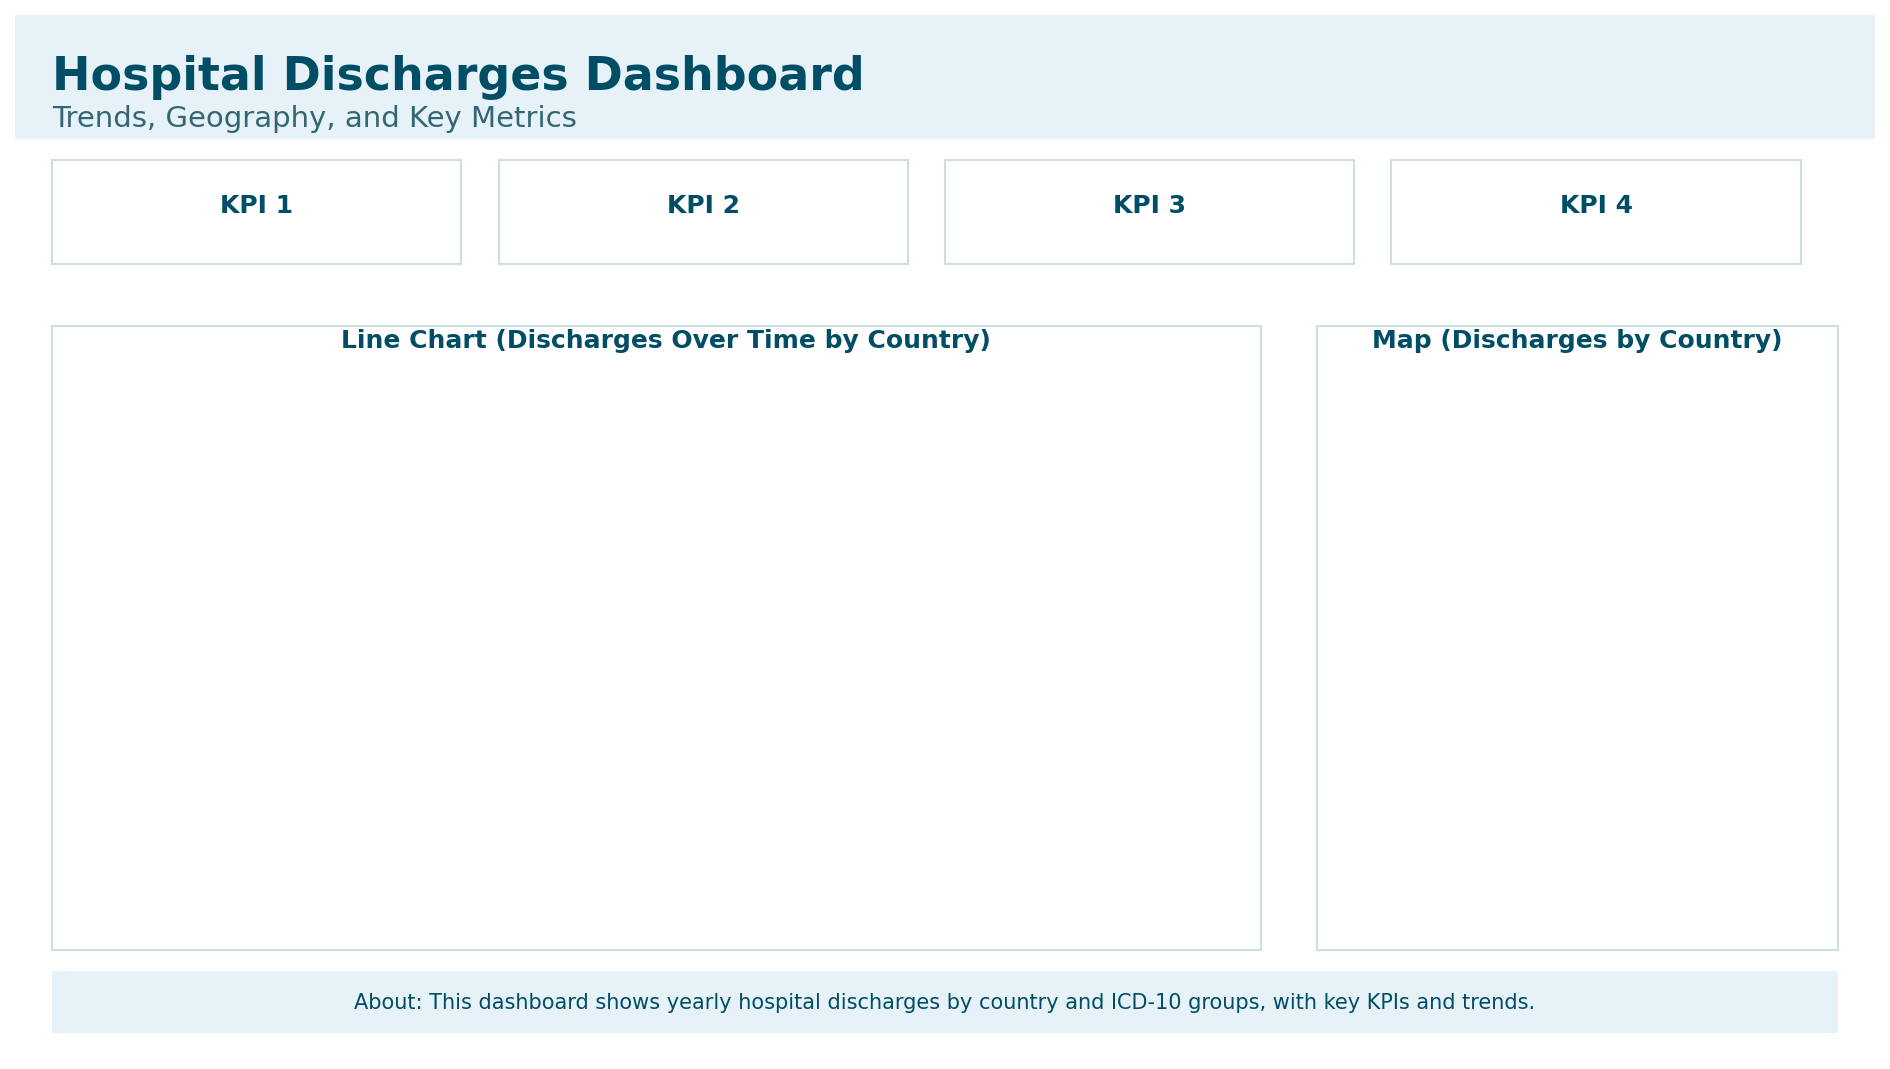

Layout of this report page (visuals, bound fields, positions):
{"tool":"powerbi","page":{"name":"Page 1","canvas":[1280,720],"ordinal":0},"visuals":[{"type":"card","fields":{"Values":["hospital_discharges_clean.Total Discharges"]},"box":[35.6,98.9,276.7,81.1],"z":0},{"type":"card","fields":{"Values":["hospital_discharges_clean.Top Country"]},"box":[640,98.9,280,81.1],"z":1000},{"type":"card","fields":{"Values":["Date.Top ICD10 Group"]},"box":[942.2,98.9,277.8,81.1],"z":2000},{"type":"card","fields":{"Values":["hospital_discharges_clean.Total Discharges YoY % (quick)"]},"box":[338.9,98.9,275.6,81.1],"z":3000},{"type":"map","title":"Discharges by Country","fields":{"Category":["hospital_discharges_clean.geo"],"Size":["hospital_discharges_clean.Total Discharges"]},"box":[854.4,215.6,425.6,423.3],"z":4000},{"type":"stackedAreaChart","title":"Discharges Over Time by Country","fields":{"Category":["Date.Date.Variation.Date Hierarchy.Year"],"Series":["hospital_discharges_clean.icd10"],"Y":["hospital_discharges_clean.Total Discharges"]},"box":[35.6,215.6,818.9,423.3],"z":5000}]}

Visuals, with their boxes in screenshot pixels (x1, y1, x2, y2), scaled from the page's 1280x720 canvas onto the 1890x1069 screenshot:
card - hospital_discharges_clean.Total Discharges: <bbox>53, 147, 461, 267</bbox>
card - hospital_discharges_clean.Top Country: <bbox>945, 147, 1358, 267</bbox>
card - Date.Top ICD10 Group: <bbox>1391, 147, 1801, 267</bbox>
card - hospital_discharges_clean.Total Discharges YoY % (quick): <bbox>500, 147, 907, 267</bbox>
"Discharges by Country" map: <bbox>1262, 320, 1889, 949</bbox>
"Discharges Over Time by Country" stackedAreaChart: <bbox>53, 320, 1262, 949</bbox>
